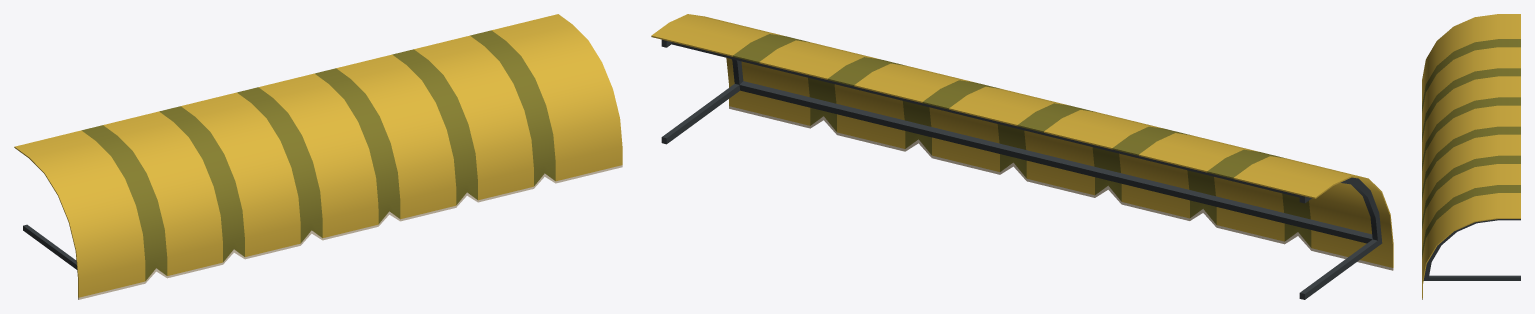
Rendered from SM_BuildingsDecor_40.fbx.
The picture shows the model from 3 angles, left to right: view 1: azimuth 30°, elevation 25°; view 2: azimuth 150°, elevation 25°; view 3: azimuth 270°, elevation 25°; orthographic projection. The views are drawn at different scales.
Parts seen in each view (by area): view 1: SM_BuildingsDecor_40; view 2: SM_BuildingsDecor_40; view 3: SM_BuildingsDecor_40.
Part boxes in pixels (x1,y1,x2,y2): SM_BuildingsDecor_40: (14, 14, 622, 299); SM_BuildingsDecor_40: (651, 14, 1393, 299); SM_BuildingsDecor_40: (1422, 14, 1520, 299).
Size of the model in its own units: 5 by 0.9341 by 1.02.
